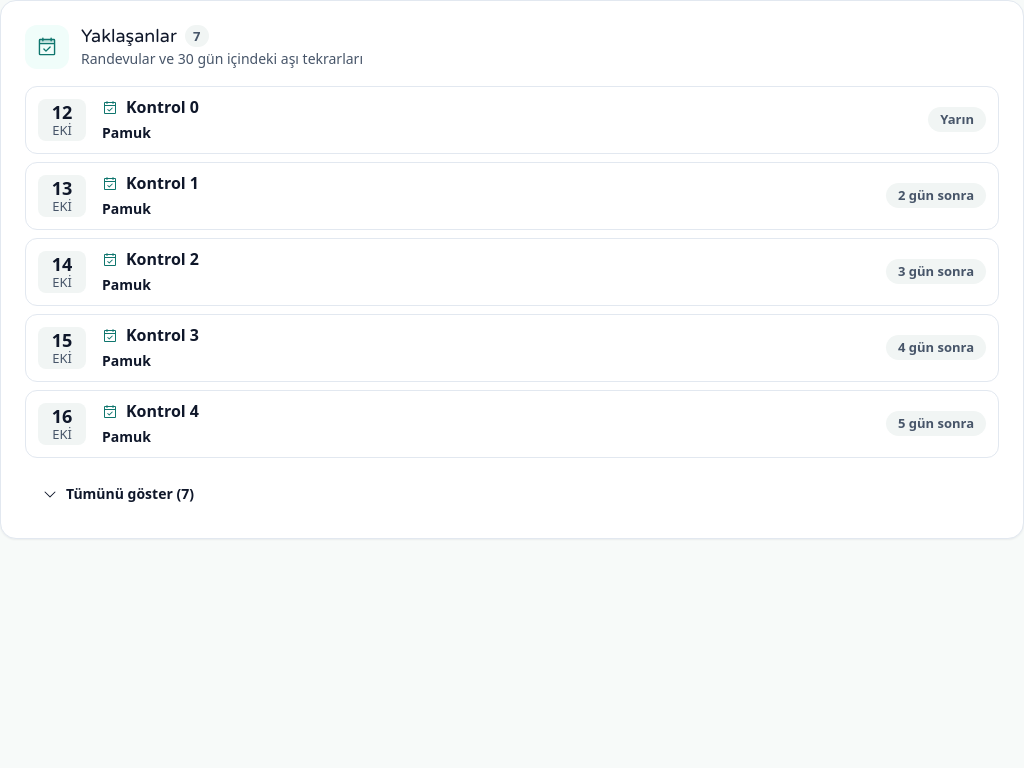
Scenario: UpcomingPanel › shows five items and expands to all
The image size is (1024, 768).
Expected: the number of links is 5, [25,86,999,154]; [25,162,999,230]; [25,238,999,306]; [25,314,999,382]; [25,390,999,458]
Click the button "Tümünü göster (7)". click: (118, 494)
box: [25,474,211,514]
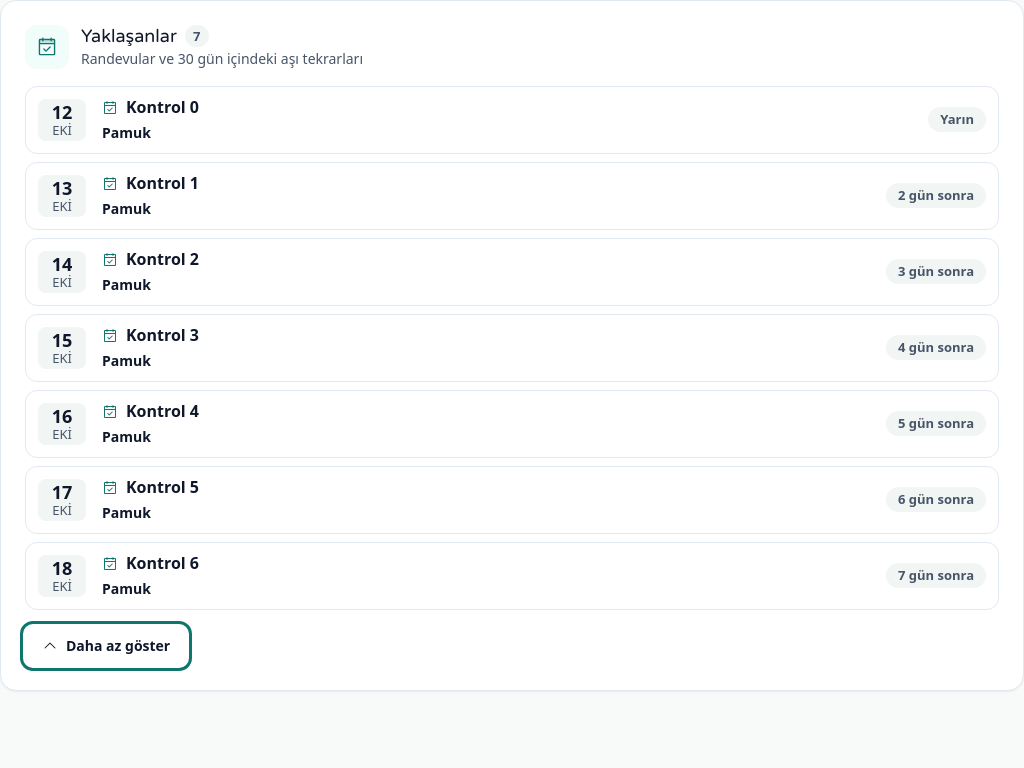
Result: the number of links is 7
Result: the button "Daha az göster" is expanded at [25,626,187,666]
